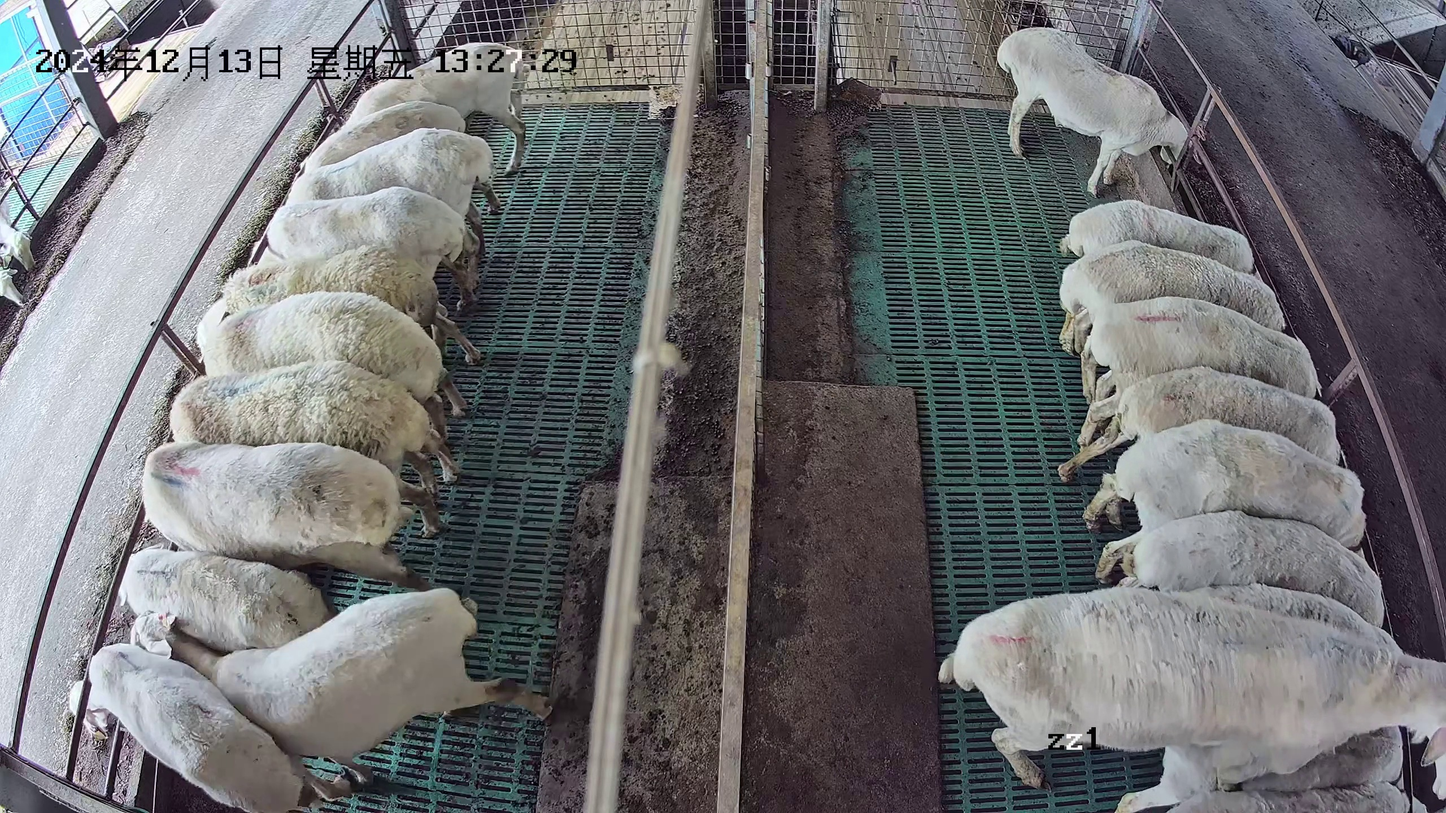Smounting: (936, 584, 1446, 813)
mounted: (1113, 720, 1407, 813)
